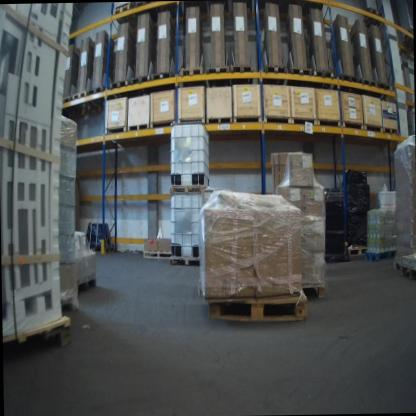pallet: (203, 282, 314, 331), (2, 309, 80, 373), (297, 271, 333, 310), (60, 95, 93, 128), (69, 270, 102, 300), (73, 89, 101, 119), (52, 296, 80, 324), (363, 242, 395, 266), (88, 86, 118, 109), (392, 255, 416, 283), (113, 3, 137, 31), (263, 60, 287, 88), (133, 3, 157, 31), (309, 65, 335, 90), (171, 252, 199, 275), (229, 60, 255, 84), (142, 252, 177, 268), (204, 111, 233, 130), (347, 237, 367, 264), (288, 65, 314, 85), (170, 181, 206, 194), (178, 63, 204, 81), (336, 70, 357, 91), (204, 61, 229, 78), (380, 125, 401, 144), (128, 119, 149, 137), (148, 68, 173, 83), (129, 69, 152, 84), (358, 75, 376, 93), (109, 76, 128, 92), (376, 79, 391, 96)
